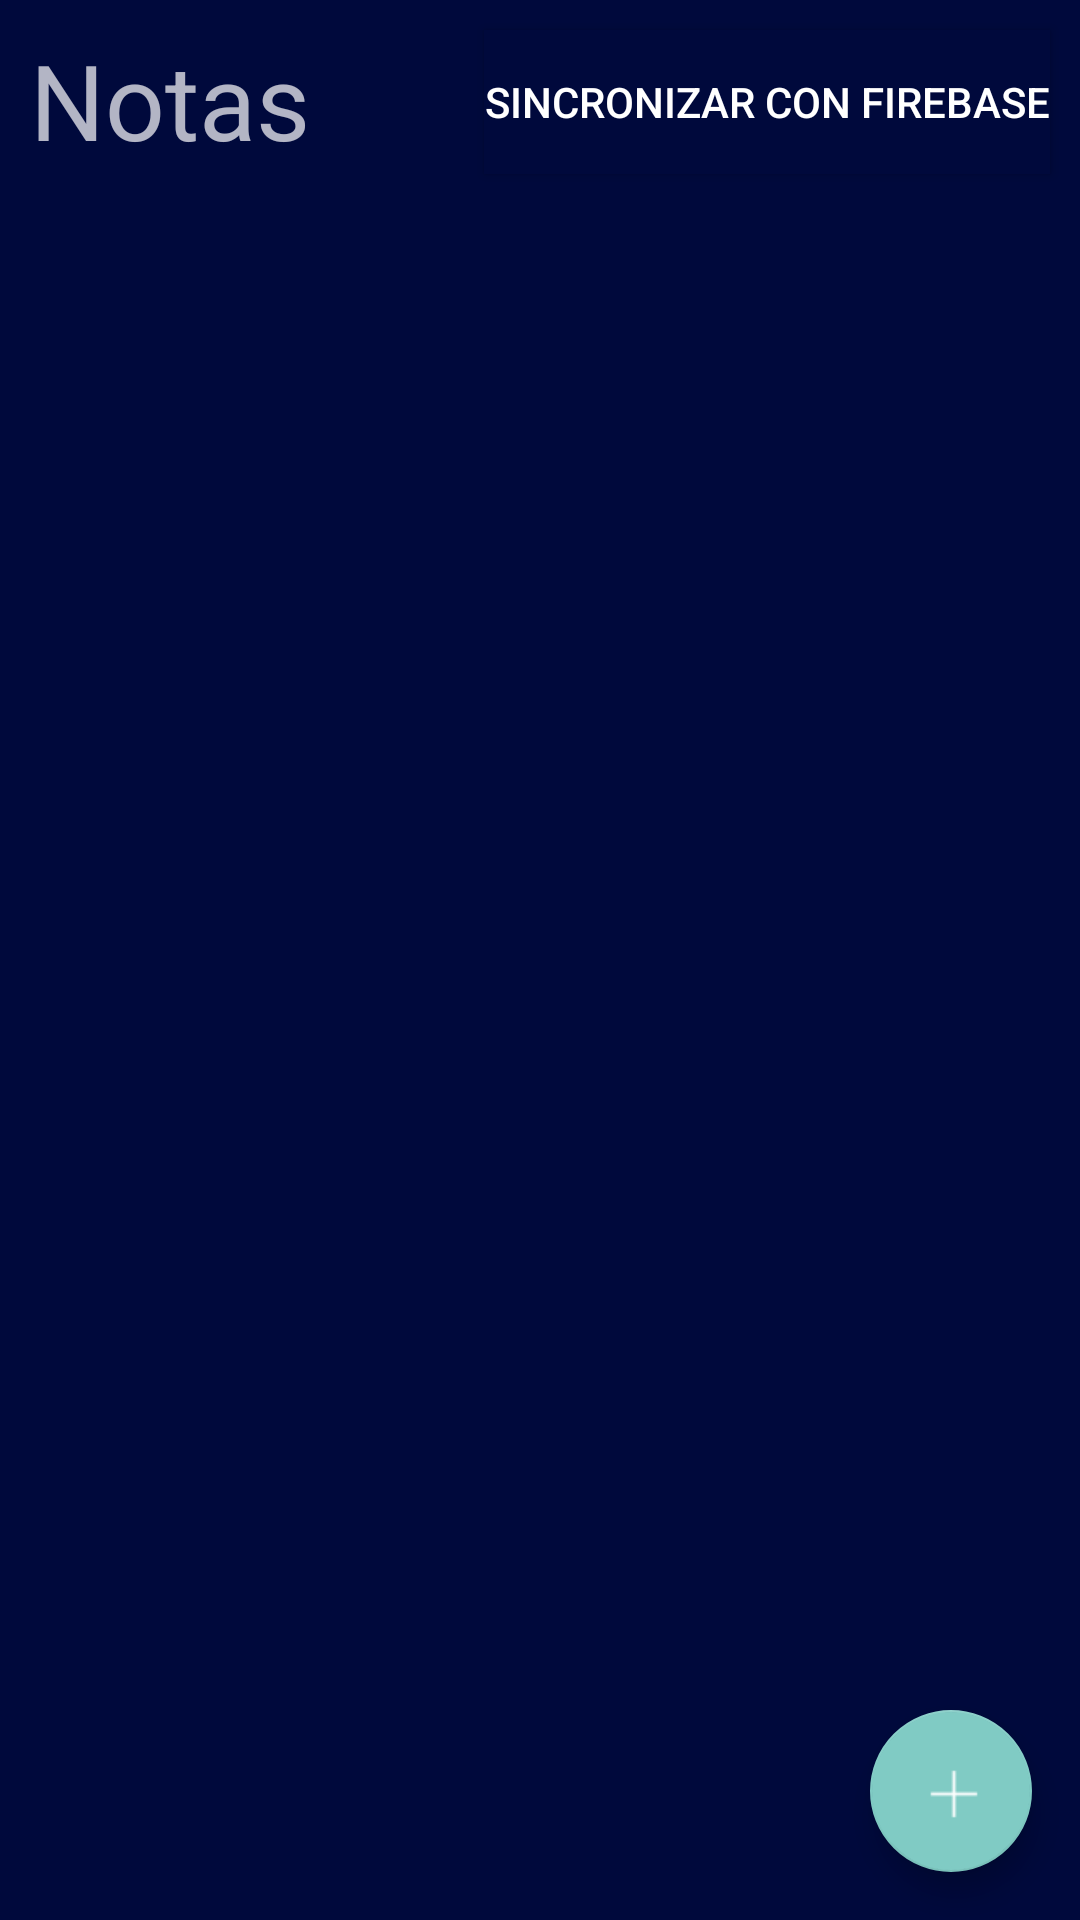

Icons on this 1080 × 1920 Android screen, each with the point to tap as (x=x, y=y):
add: (x=951, y=1791)
